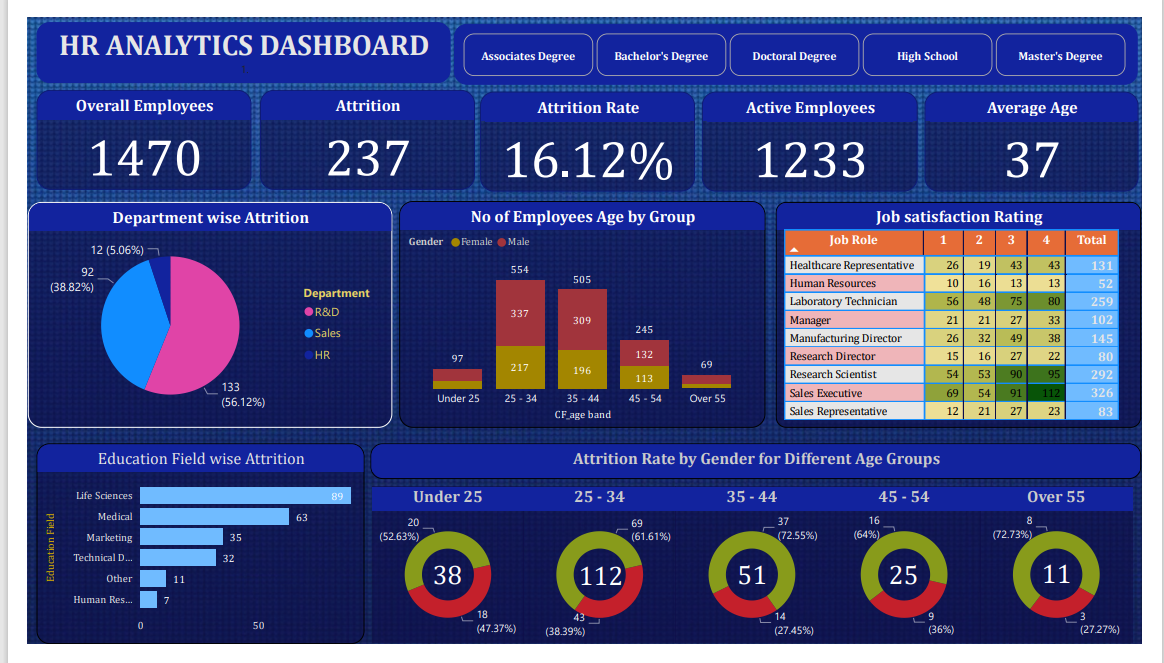

Layout of this report page (visuals, bound fields, positions):
{"tool":"powerbi","page":{"name":"Page 1","canvas":[1280,720],"ordinal":0},"visuals":[{"type":"card","title":"Overall Employees","fields":{"Values":["Sum(HR data.Employee Count)"]},"box":[10.4,83.4,247,115],"z":0},{"type":"card","title":"Attrition","fields":{"Values":["Sum(HR data.Attrition count)"]},"box":[267,83.4,247,115],"z":1000},{"type":"card","title":"Attrition Rate","fields":{"Values":["HR data.Attrition Rate"]},"box":[520.2,85.1,246.6,114.8],"z":2000},{"type":"card","title":"Active Employees","fields":{"Values":["HR data.Active Employees"]},"box":[775.4,85.1,248.1,114.8],"z":3000},{"type":"card","title":"Average Age","fields":{"Values":["Avg(HR data.Age)"]},"box":[1030.5,85.1,246.6,114.8],"z":4000},{"type":"pieChart","title":"Department wise Attrition","fields":{"Category":["HR data.Department"],"Y":["Sum(HR data.Attrition count)"]},"box":[0,211.9,418.6,260.5],"z":5000},{"type":"columnChart","title":"No of Employees Age by Group","fields":{"Y":["Sum(HR data.Employee Count)"],"Series":["HR data.Gender"],"Category":["HR data.CF_age band"]},"box":[426.7,211.2,421,260.8],"z":6000},{"type":"pivotTable","title":"Job satisfaction Rating","fields":{"Rows":["HR data.Job Role"],"Columns":["HR data.Job Satisfaction"],"Values":["Sum(HR data.Employee Count)"]},"box":[859.7,211.9,420.3,260.5],"z":7000},{"type":"barChart","title":"Education Field wise Attrition","fields":{"Y":["Sum(HR data.Attrition count)"],"Category":["HR data.Education Field"]},"box":[10.4,489.8,376.9,231],"z":8000},{"type":"textbox","title":"Attrition Rate by Gender for Different Age Groups","box":[394.2,489.8,885.8,41.7],"z":9000},{"type":"textbox","title":"HR ANALYTICS DASHBOARD","box":[10,5,475.9,70],"z":10000},{"type":"advancedSlicerVisual","fields":{"Values":["HR data.Education"]},"box":[490.5,7.1,785.3,69.4],"z":11000},{"type":"donutChart","title":"Under 25","fields":{"Category":["HR data.Gender"],"Series":["HR data.CF_age band"],"Y":["Sum(HR data.Attrition count)"]},"box":[396,540,174,180],"z":12000},{"type":"card","fields":{"Values":["Sum(HR data.Attrition count)"]},"box":[442,608,81,66],"z":13000},{"type":"donutChart","title":"25 - 34","fields":{"Category":["HR data.Gender"],"Series":["HR data.CF_age band"],"Y":["Sum(HR data.Attrition count)"]},"box":[570,540,175,180],"z":13001},{"type":"donutChart","title":"35 - 44","fields":{"Category":["HR data.Gender"],"Series":["HR data.CF_age band"],"Y":["Sum(HR data.Attrition count)"]},"box":[745,540,175,180],"z":13002},{"type":"donutChart","title":"45 - 54","fields":{"Category":["HR data.Gender"],"Series":["HR data.CF_age band"],"Y":["Sum(HR data.Attrition count)"]},"box":[920,540,175,180],"z":13003},{"type":"donutChart","title":"Over 55","fields":{"Category":["HR data.Gender"],"Series":["HR data.CF_age band"],"Y":["Sum(HR data.Attrition count)"]},"box":[1095,540,175,180],"z":13004},{"type":"card","fields":{"Values":["Sum(HR data.Attrition count)"]},"box":[626,620,66,44],"z":13005},{"type":"card","fields":{"Values":["Sum(HR data.Attrition count)"]},"box":[800,616,66,48],"z":13006},{"type":"card","fields":{"Values":["Sum(HR data.Attrition count)"]},"box":[974,616,66,48],"z":13007},{"type":"card","fields":{"Values":["Sum(HR data.Attrition count)"]},"box":[1150,606,66,66],"z":13008}]}

Visuals, with their boxes in screenshot pixels (x1, y1, x2, y2), scaled from the page's 1280x720 canvas onto the 1164x663 screenshot:
"Overall Employees" card: <region>9, 77, 234, 183</region>
"Attrition" card: <region>243, 77, 467, 183</region>
"Attrition Rate" card: <region>473, 78, 697, 184</region>
"Active Employees" card: <region>705, 78, 931, 184</region>
"Average Age" card: <region>937, 78, 1161, 184</region>
"Department wise Attrition" pieChart: <region>0, 195, 381, 435</region>
"No of Employees Age by Group" columnChart: <region>388, 194, 771, 435</region>
"Job satisfaction Rating" pivotTable: <region>782, 195, 1163, 435</region>
"Education Field wise Attrition" barChart: <region>9, 451, 352, 662</region>
"Attrition Rate by Gender for Different Age Groups" textbox: <region>358, 451, 1163, 489</region>
"HR ANALYTICS DASHBOARD" textbox: <region>9, 5, 442, 69</region>
advancedSlicerVisual - HR data.Education: <region>446, 7, 1160, 70</region>
"Under 25" donutChart: <region>360, 497, 518, 662</region>
card - Sum(HR data.Attrition count): <region>402, 560, 476, 621</region>
"25 - 34" donutChart: <region>518, 497, 677, 662</region>
"35 - 44" donutChart: <region>677, 497, 837, 662</region>
"45 - 54" donutChart: <region>837, 497, 996, 662</region>
"Over 55" donutChart: <region>996, 497, 1155, 662</region>
card - Sum(HR data.Attrition count): <region>569, 571, 629, 611</region>
card - Sum(HR data.Attrition count): <region>728, 567, 788, 611</region>
card - Sum(HR data.Attrition count): <region>886, 567, 946, 611</region>
card - Sum(HR data.Attrition count): <region>1046, 558, 1106, 619</region>
